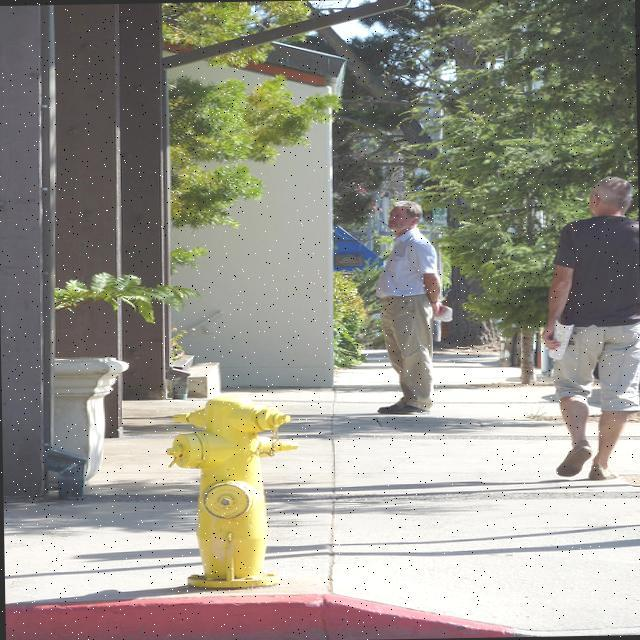fire_hydrant: (164, 400, 303, 596)
